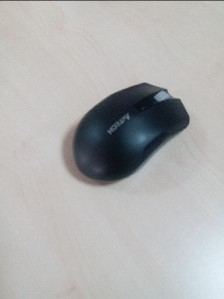mouse: (64, 82, 191, 185)
